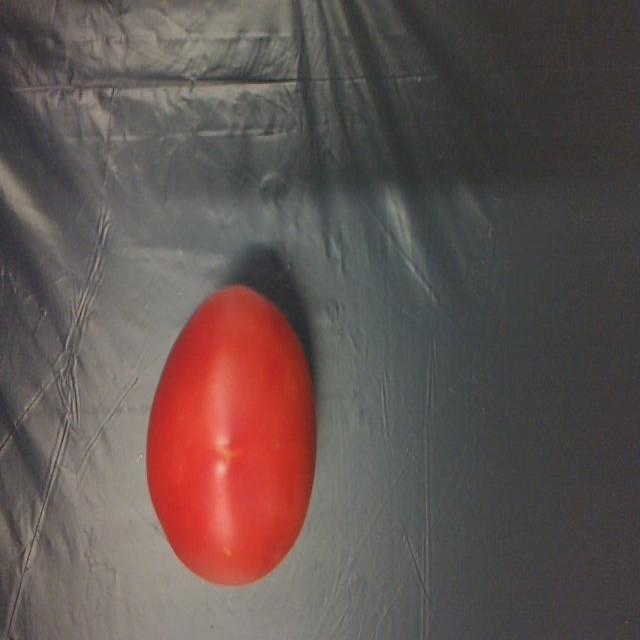kirmizi: (140, 282, 321, 585)
